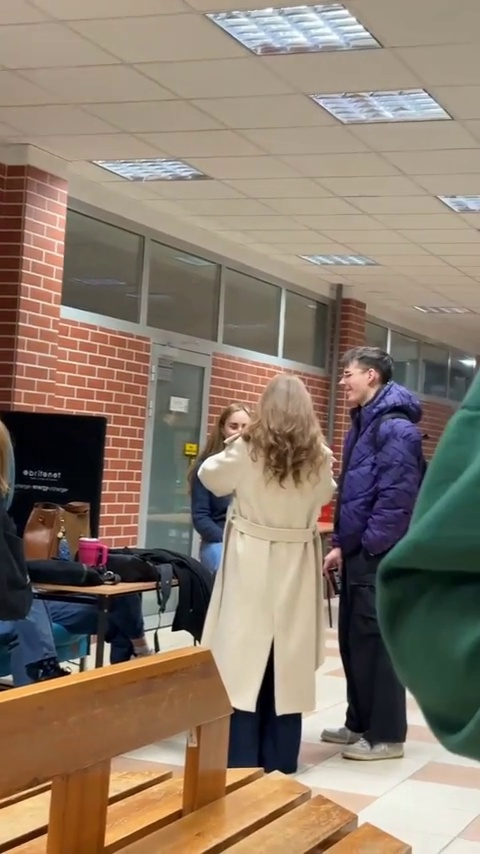no vest: (212, 365, 324, 730), (330, 345, 420, 734)
